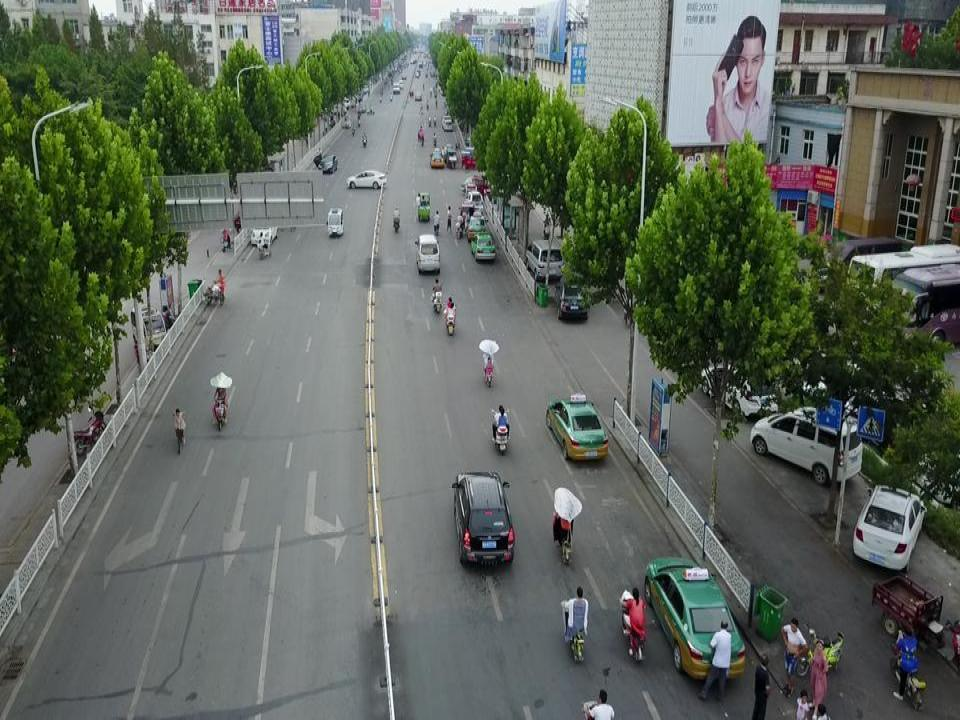bus: (845, 243, 960, 318), (885, 263, 960, 352)
car: (644, 557, 746, 680), (750, 404, 864, 484), (852, 484, 928, 573), (451, 471, 515, 565), (698, 362, 778, 421), (545, 393, 608, 462), (554, 283, 589, 320), (251, 212, 278, 248), (346, 170, 387, 190), (470, 231, 496, 262), (466, 211, 488, 244), (460, 176, 494, 195), (313, 153, 339, 175), (458, 202, 477, 226), (429, 148, 444, 168), (443, 119, 454, 132), (442, 115, 452, 125)
van: (809, 236, 902, 292), (525, 238, 563, 282), (415, 235, 440, 273)
